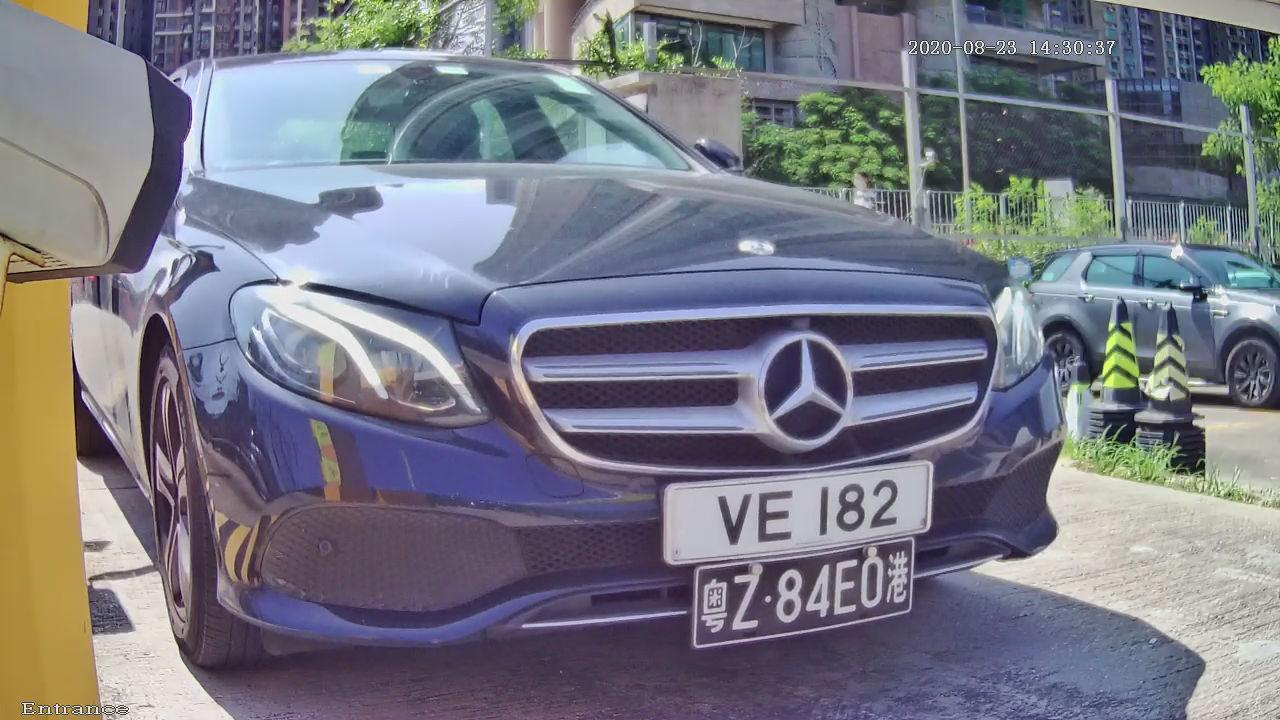Car: (18, 7, 1161, 720)
License Plate: (619, 399, 1023, 608)
